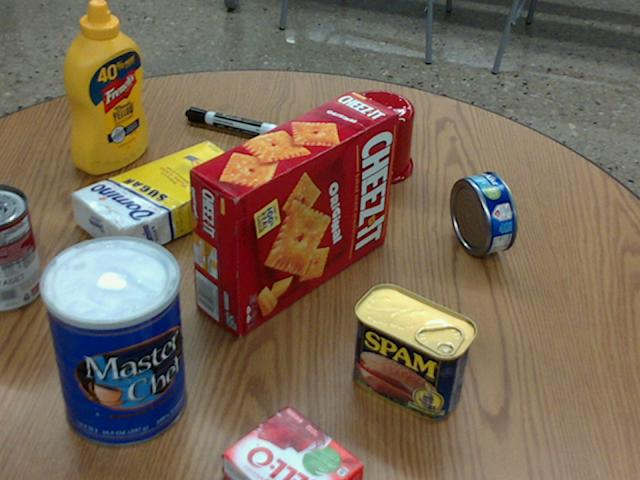cracker_box: (191, 91, 397, 334)
gelatin_box: (220, 405, 363, 479)
large_marker: (186, 106, 277, 139)
master_chef_can: (40, 236, 185, 446)
mug: (330, 90, 413, 184)
mustard_bottle: (65, 0, 147, 173)
potted_meat_can: (352, 282, 475, 419)
sugar_box: (71, 139, 255, 261)
tomato_soup_can: (0, 183, 41, 310)
tuna_fish_can: (448, 171, 516, 254)
